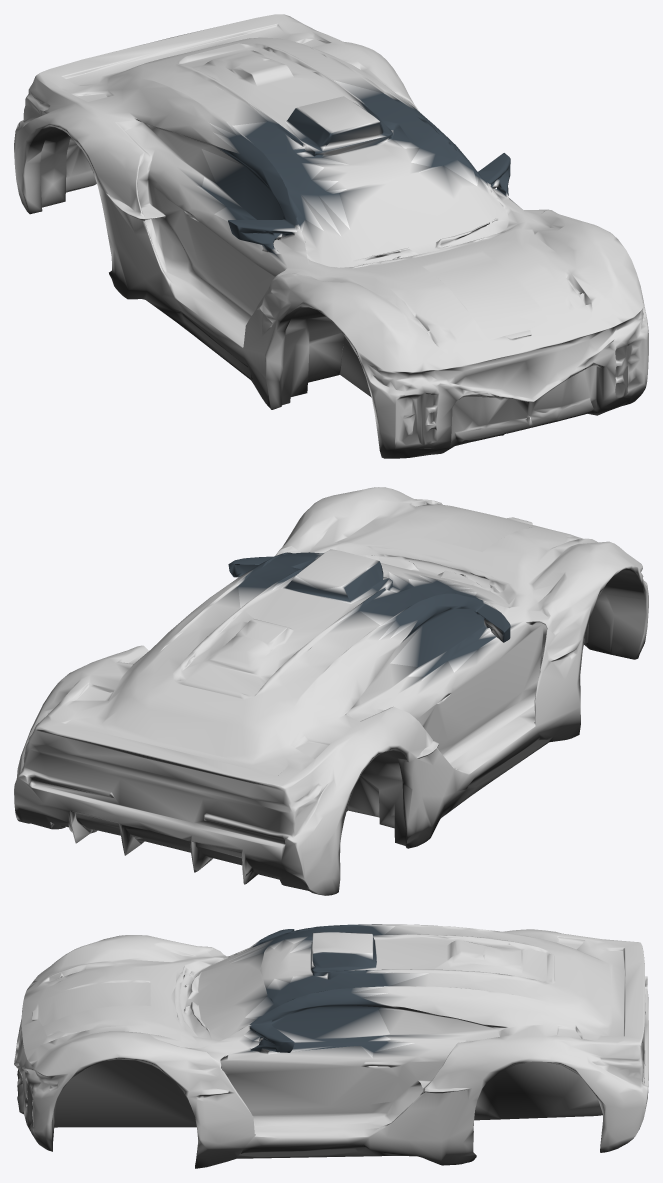
Rendered from genesis_body_lo.glb.
3 renders of one model, top to bottom at view 1: azimuth 30°, elevation 25°; view 2: azimuth 150°, elevation 25°; view 3: azimuth 270°, elevation 25°, orthographic. The views are drawn at different scales.
Visible parts, largest first — view 1: body; view 2: body; view 3: body.
Part boxes in pixels (box(x1,y1,x2,y2)): body: box(14, 14, 648, 458); body: box(14, 487, 648, 895); body: box(14, 924, 648, 1168).
Size of the model in its own units: 2.2 by 1.31 by 4.56.
